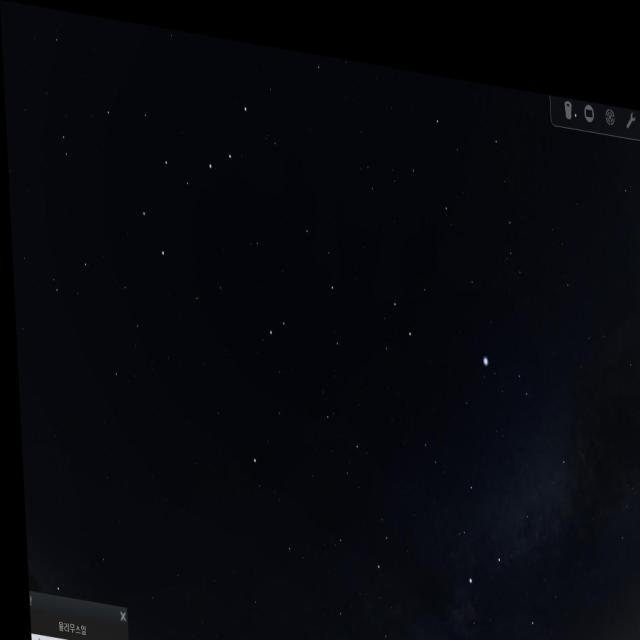cygnus: (450, 426, 579, 634)
lyra: (466, 316, 534, 396)
ursa_major: (120, 80, 262, 283)
